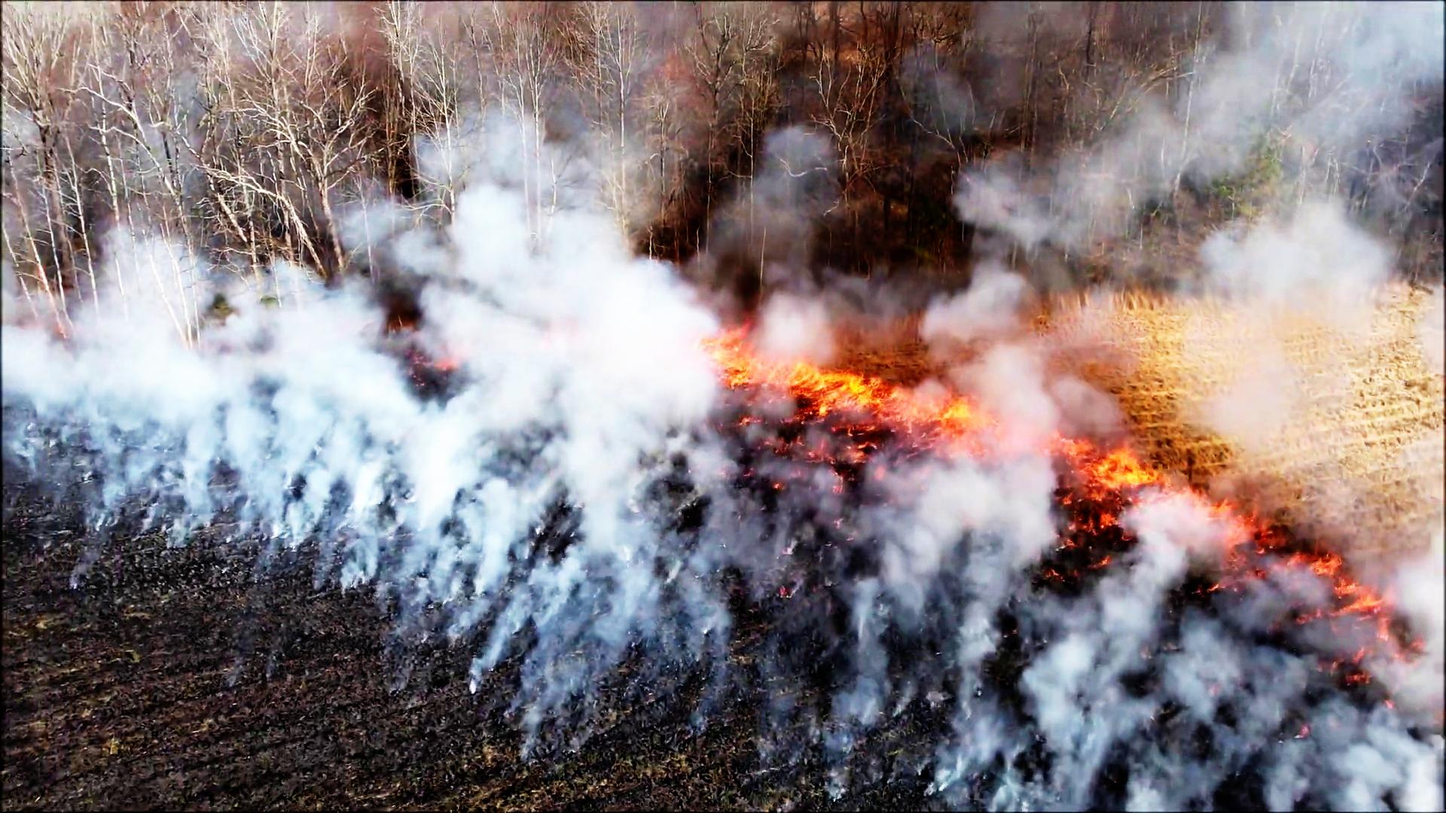fire: (753, 354, 972, 452), (1092, 429, 1160, 550)
smoke: (422, 139, 715, 757), (960, 0, 1446, 335), (8, 237, 418, 598), (870, 440, 1228, 813), (1250, 610, 1446, 813)
